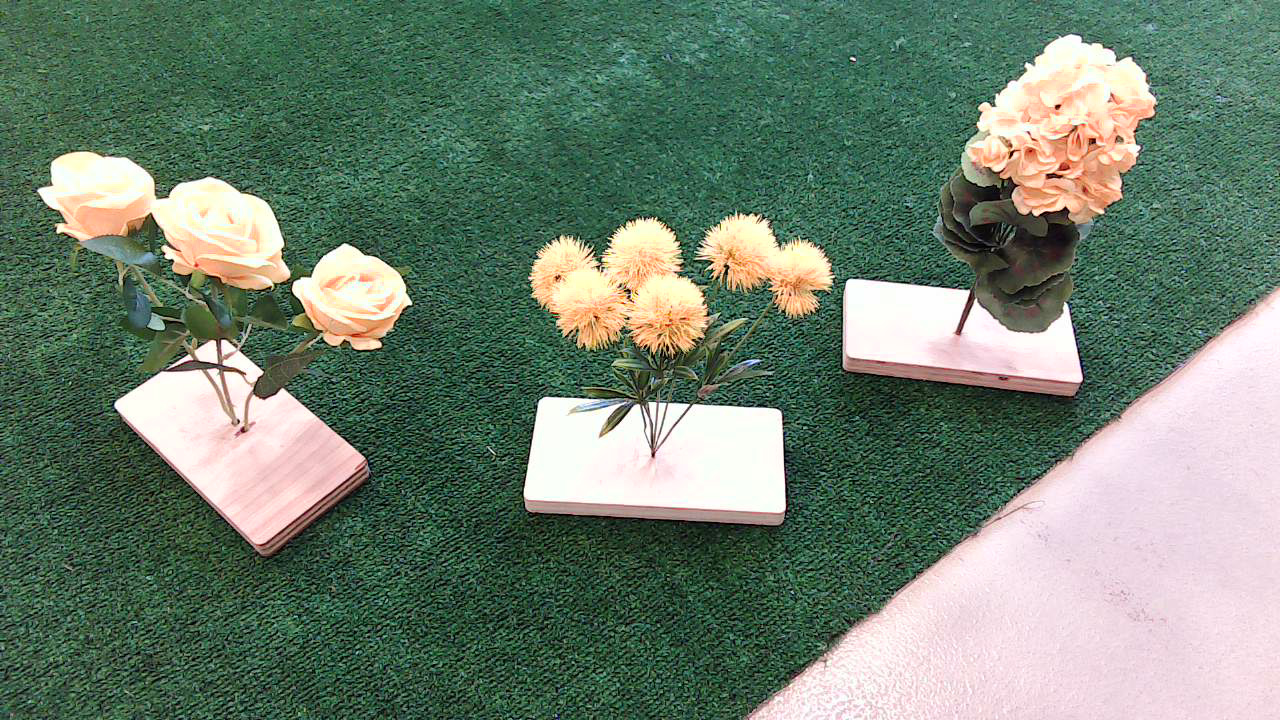dandelion: (488, 214, 846, 392)
geranium: (939, 21, 1170, 373)
rose: (17, 142, 432, 439)
